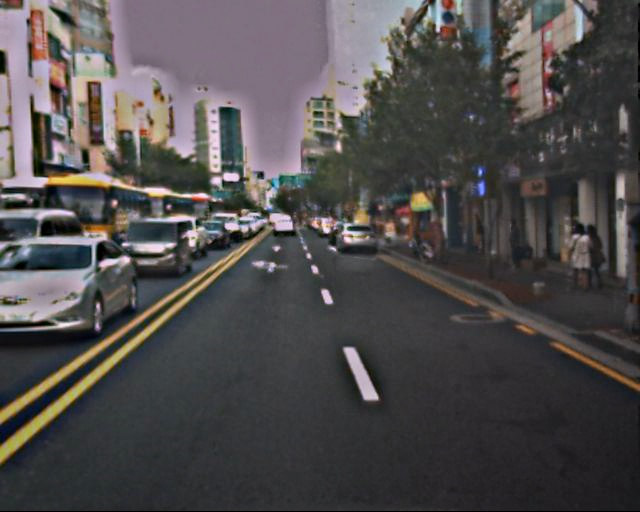person: (563, 224, 591, 293), (575, 221, 603, 290), (505, 218, 529, 276), (469, 215, 488, 261)
